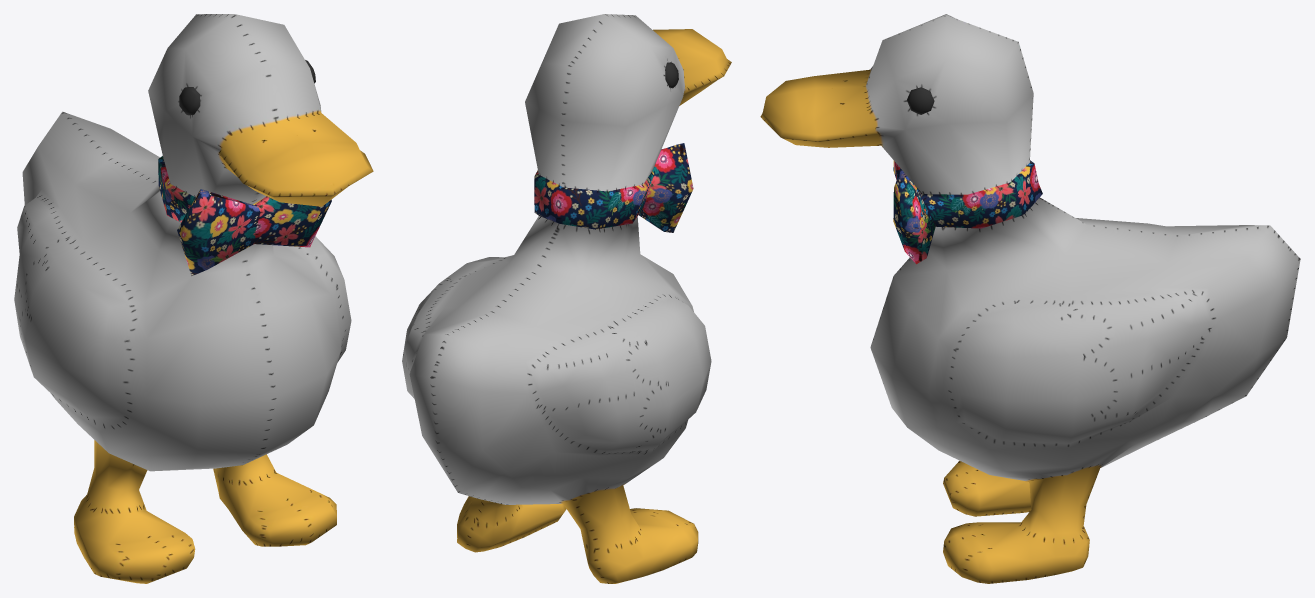
The model's file is duck.glb.
3 views of the same model, side by side, from view 1: azimuth 30°, elevation 25°; view 2: azimuth 150°, elevation 25°; view 3: azimuth 270°, elevation 25° (orthographic). The views are drawn at different scales.
Parts seen in each view (by area): view 1: Box001_01 - Default_0; view 2: Box001_01 - Default_0; view 3: Box001_01 - Default_0.
Part boxes in pixels (box(x1,y1,x2,y2)): Box001_01 - Default_0: box(14, 14, 373, 583); Box001_01 - Default_0: box(402, 14, 731, 583); Box001_01 - Default_0: box(760, 14, 1300, 583).
Bounding box in the file's own units: 0.7779 × 1.48 × 1.38.
Materials: 1 (1 with a texture image).
